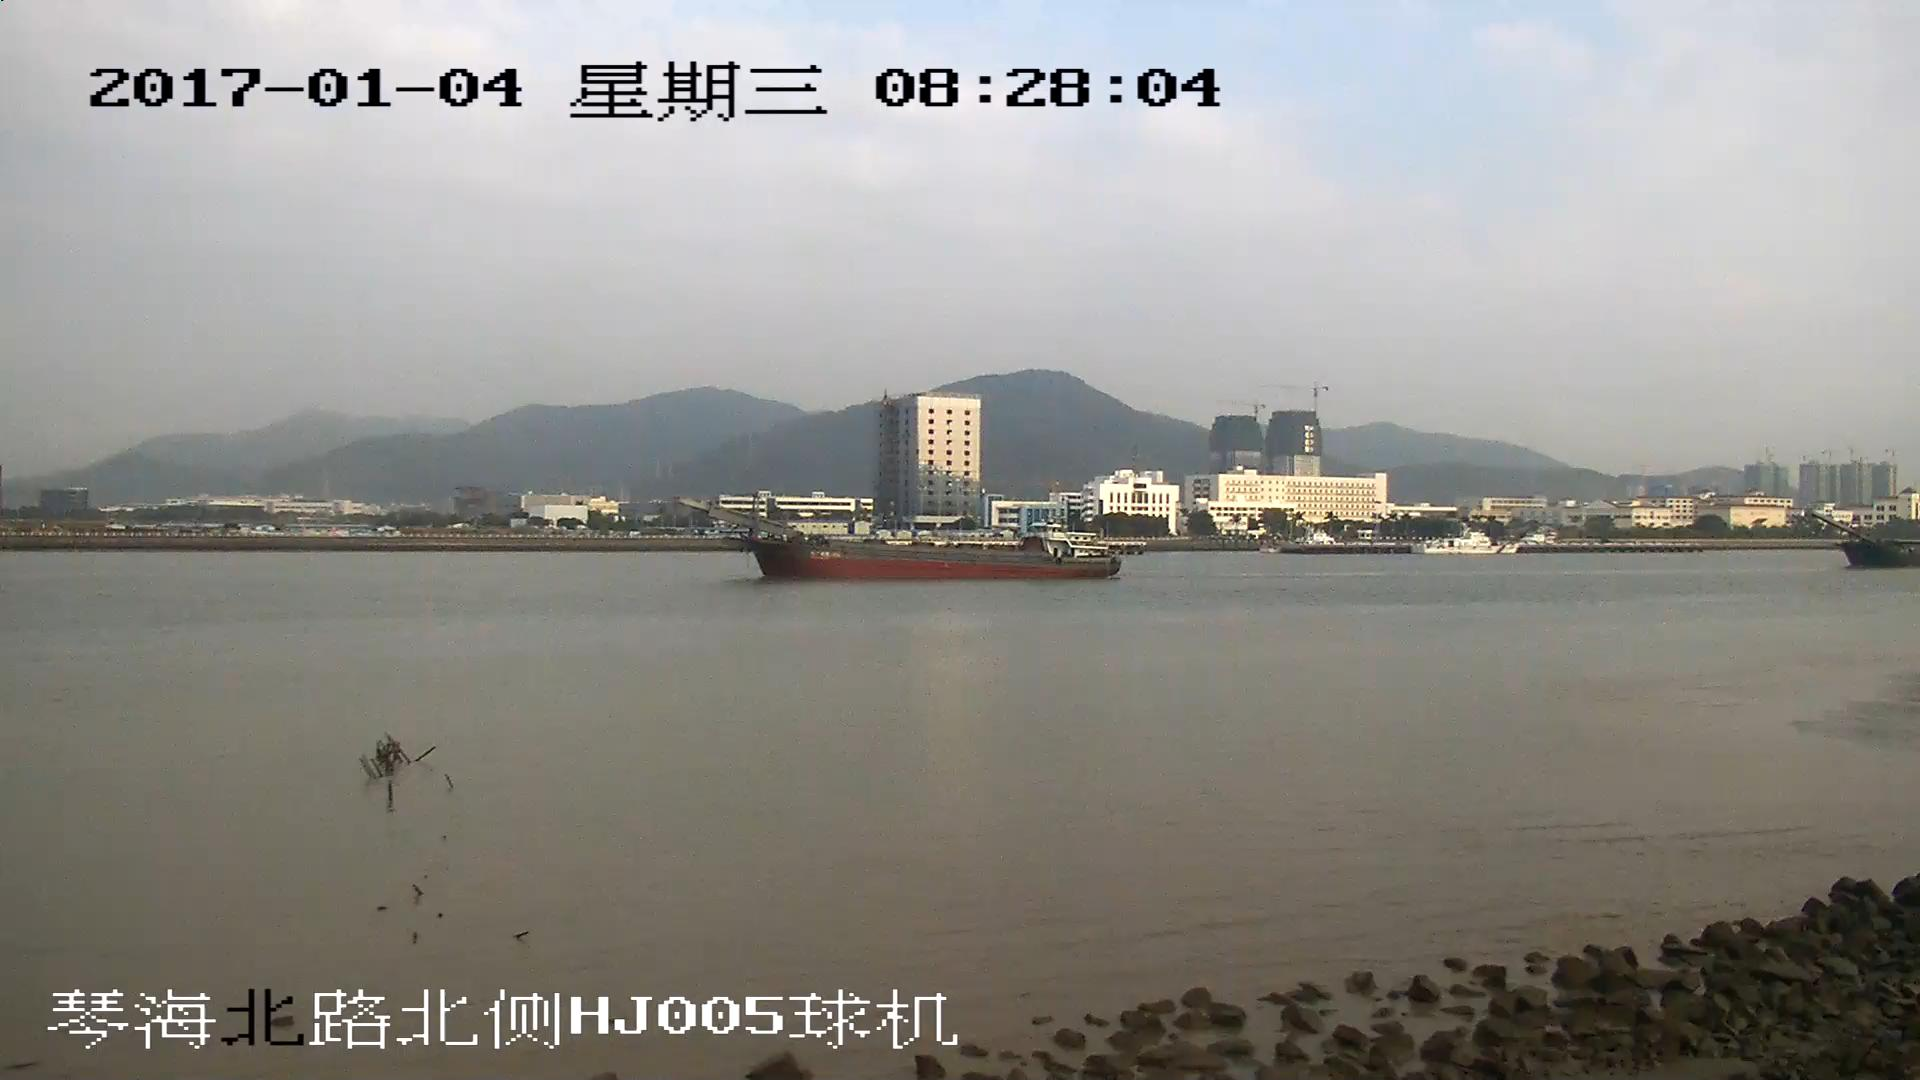bulk cargo carrier: (684, 498, 1119, 580)
